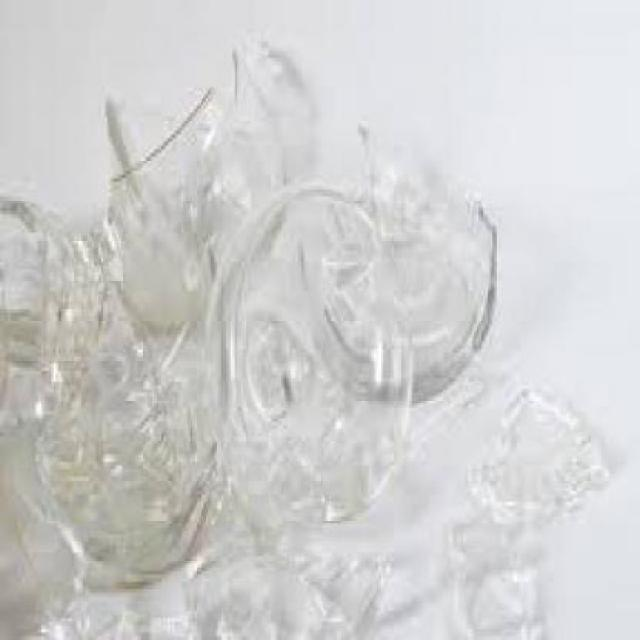kaca: (211, 186, 409, 525), (35, 211, 217, 571), (106, 29, 308, 323), (306, 112, 497, 397), (452, 386, 602, 637), (182, 501, 384, 637), (369, 403, 491, 611), (0, 192, 102, 430), (0, 426, 78, 637), (40, 578, 197, 637)
